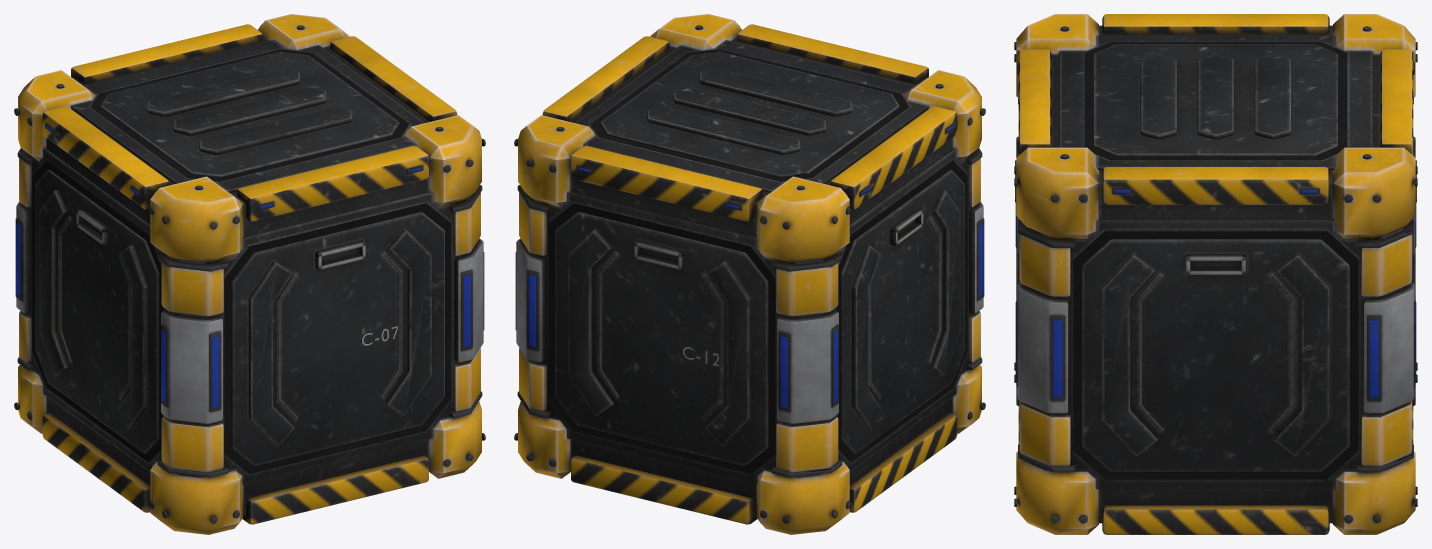
File: cargo_crate.glb
3 renders of one model, left to right at view 1: azimuth 30°, elevation 25°; view 2: azimuth 150°, elevation 25°; view 3: azimuth 270°, elevation 25°, orthographic. The views are drawn at different scales.
Visible parts, largest first — view 1: CargoCrate; view 2: CargoCrate; view 3: CargoCrate.
Part boxes in pixels (box(x1,y1,x2,y2)): CargoCrate: box(14, 14, 485, 534); CargoCrate: box(514, 14, 985, 534); CargoCrate: box(1014, 14, 1417, 534).
Bounding box in the file's own units: 1.42 × 1.42 × 1.42.
1 material, 1 textured.
